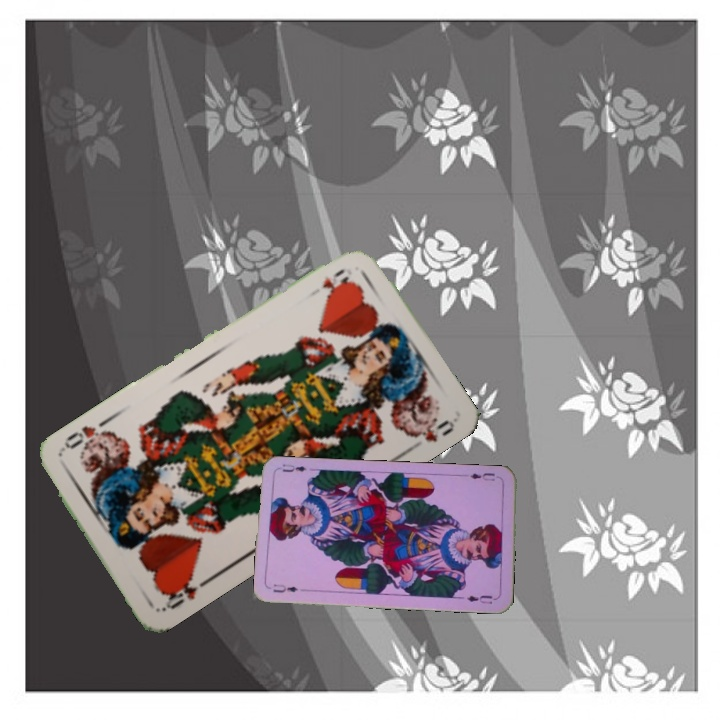EU: (269, 580, 309, 595), (462, 469, 502, 483)
HO: (158, 573, 212, 613), (318, 264, 351, 294)
